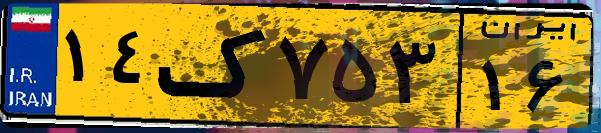1: (57, 26, 110, 100), (475, 38, 525, 113)
3: (385, 28, 445, 110)
4: (110, 28, 158, 98)
5: (330, 28, 385, 110)
6: (525, 38, 570, 115)
7: (270, 28, 330, 110)
ک: (158, 12, 270, 120)
